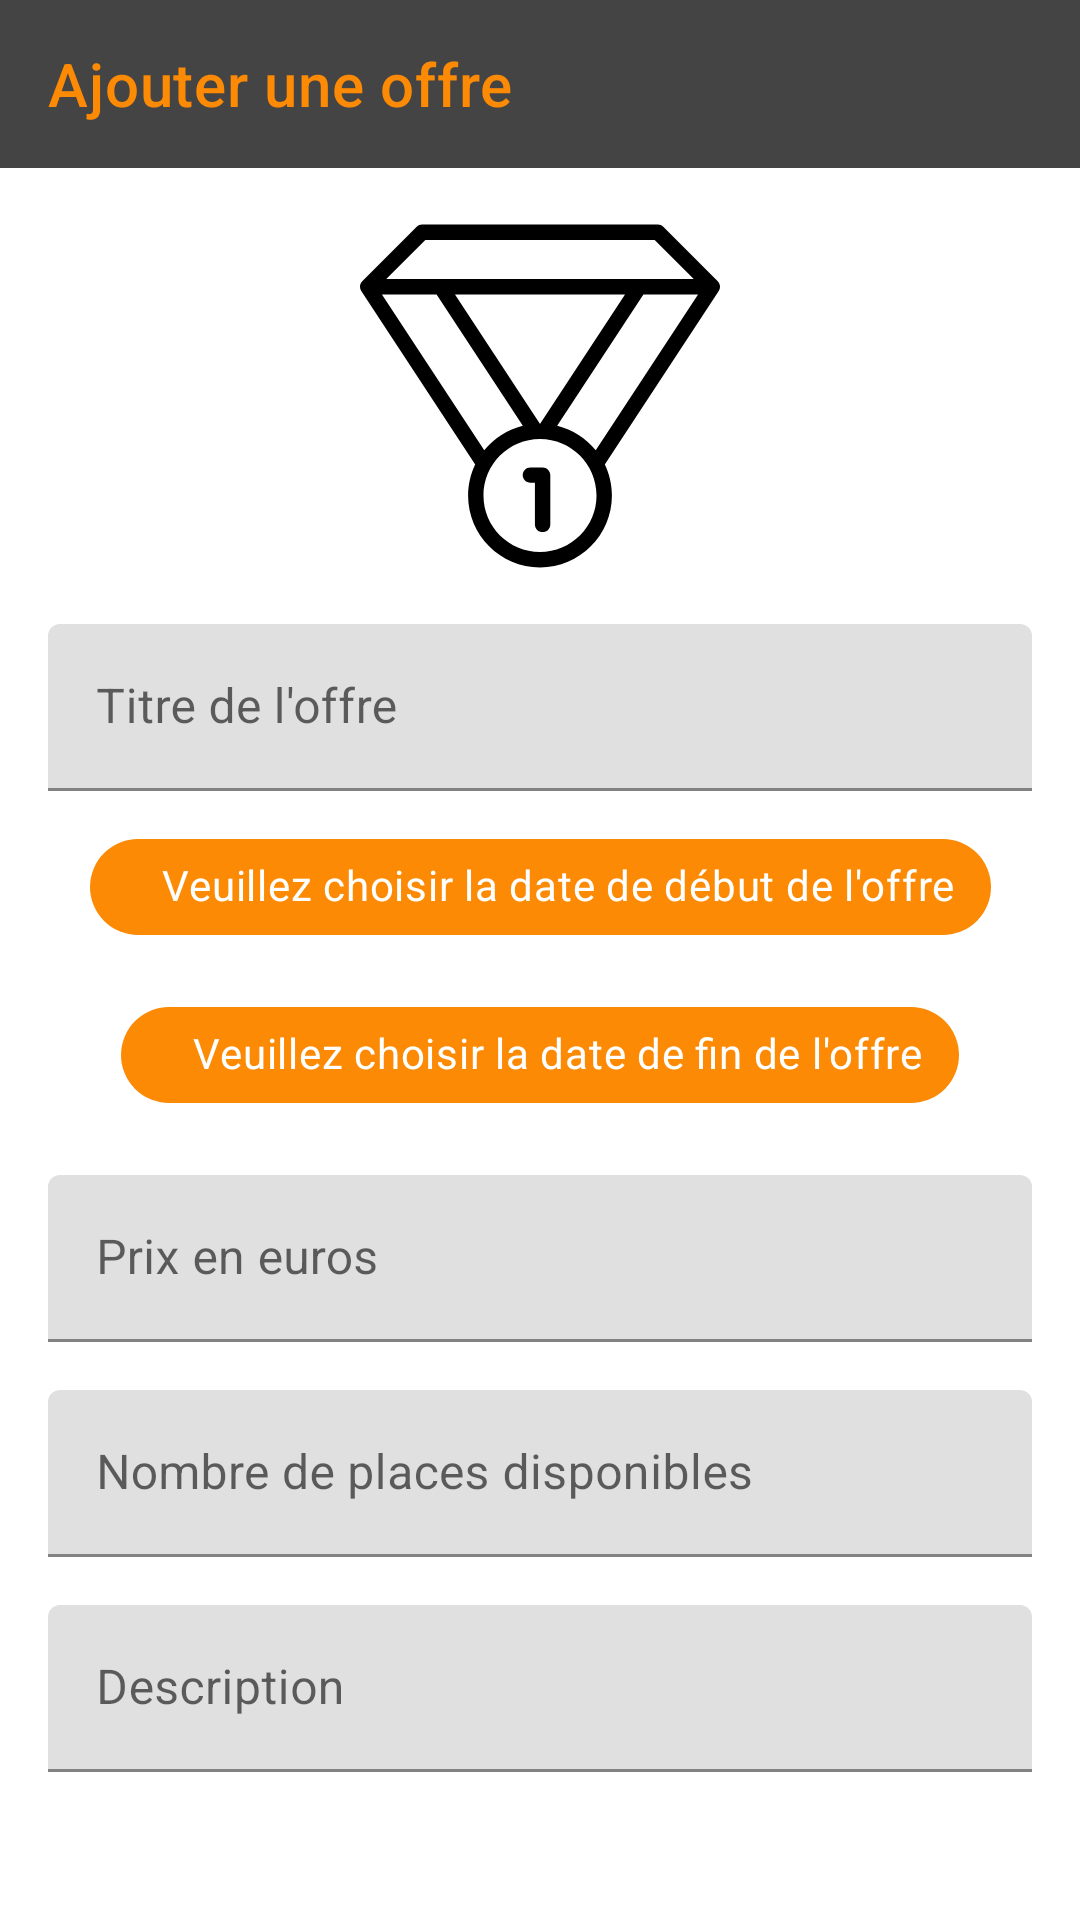

Screen size 1080*1920. Icon name, then its box in pixels as (x1, y1, x2, y2):
medal: (360, 224, 720, 568)
